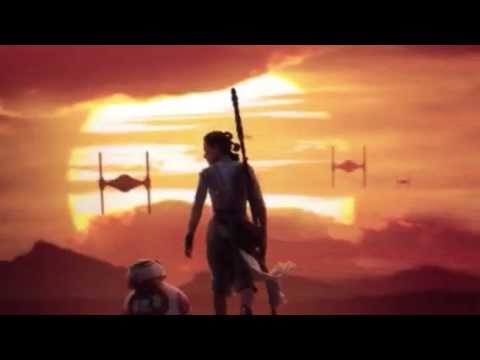bb8: (122, 258, 192, 314)
